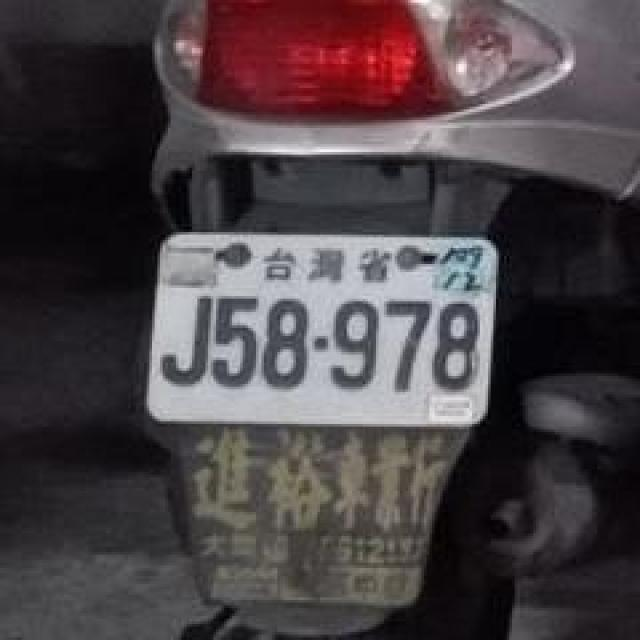W: (136, 206, 512, 462)
